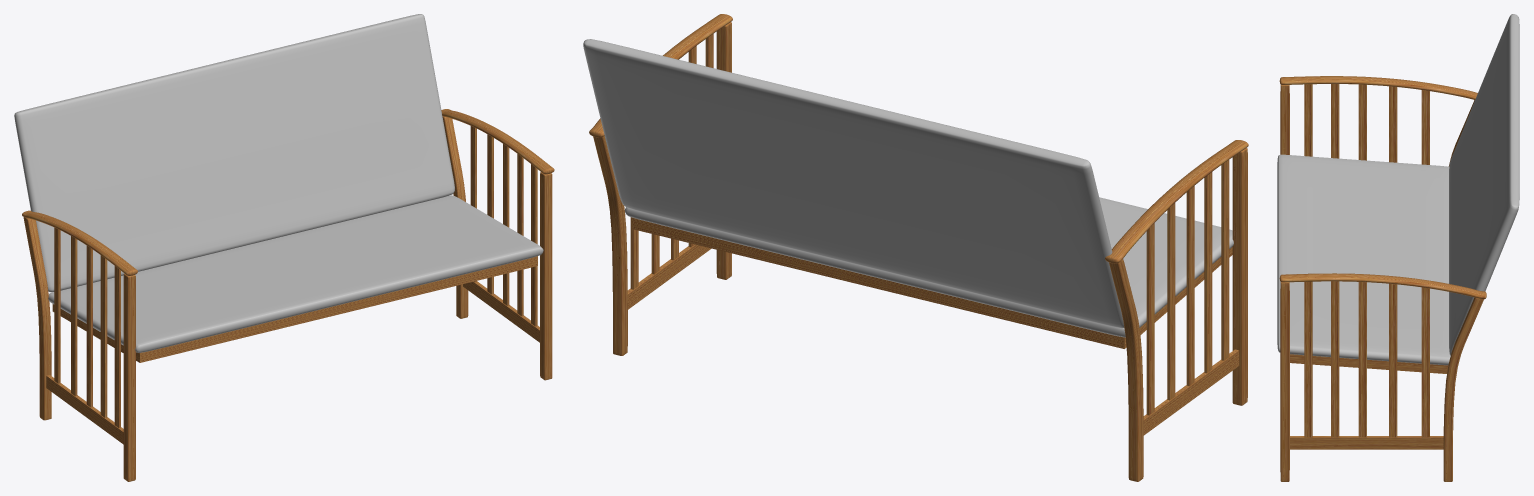
The model's file is bigpatiochair.fbx.
3 renders of one model, left to right at view 1: azimuth 30°, elevation 25°; view 2: azimuth 150°, elevation 25°; view 3: azimuth 270°, elevation 25°, orthographic. The views are drawn at different scales.
Visible parts, largest first — view 1: pCube4, pCube1, pCube3 (×2), pCube2, pCube5 (×2), pCube6 (×2), pCube7 (×2), pCube9 (×2), pCube8 (×2), pCube10 (×2), pCube11 (×2), pCube12 (×2); view 2: pCube4, pCube1, pCube5 (×2), pCube2, pCube3 (×2), pCube6 (×2), pCube7 (×2), pCube8, pCube9, pCube10, pCube11, pCube12; view 3: pCube1, pCube4, pCube6 (×2), pCube3 (×2), pCube7, pCube10 (×2), pCube9 (×2), pCube11 (×2), pCube8 (×2), pCube12 (×2), pCube5, pCube2.
Part boxes in pixels (<box>): pCube4: <box>14,14,454,292</box>; pCube1: <box>48,195,543,352</box>; pCube3 (×2): <box>123,172,552,481</box>; pCube2: <box>52,256,537,362</box>; pCube5 (×2): <box>23,116,468,420</box>; pCube6 (×2): <box>22,109,554,275</box>; pCube7 (×2): <box>46,281,539,444</box>; pCube9 (×2): <box>100,154,523,417</box>; pCube8 (×2): <box>114,164,537,427</box>; pCube10 (×2): <box>86,144,509,407</box>; pCube11 (×2): <box>71,134,493,396</box>; pCube12 (×2): <box>54,126,476,383</box>; pCube4: <box>583,39,1124,328</box>; pCube1: <box>624,197,1233,337</box>; pCube5 (×2): <box>593,136,1143,481</box>; pCube2: <box>631,217,1232,348</box>; pCube3 (×2): <box>716,22,1247,405</box>; pCube6 (×2): <box>589,14,1248,263</box>; pCube7 (×2): <box>627,244,1239,435</box>; pCube8: <box>1221,160,1229,360</box>; pCube9: <box>1204,172,1212,373</box>; pCube10: <box>1186,186,1194,386</box>; pCube11: <box>1167,203,1175,400</box>; pCube12: <box>1146,223,1154,415</box>; pCube1: <box>1277,154,1450,365</box>; pCube4: <box>1449,14,1519,355</box>; pCube6 (×2): <box>1279,76,1486,299</box>; pCube3 (×2): <box>1280,85,1289,481</box>; pCube7: <box>1290,436,1443,449</box>; pCube10 (×2): <box>1358,84,1366,437</box>; pCube9 (×2): <box>1331,84,1339,437</box>; pCube11 (×2): <box>1389,86,1397,437</box>; pCube8 (×2): <box>1304,84,1312,437</box>; pCube12 (×2): <box>1421,90,1429,437</box>; pCube5: <box>1443,297,1483,481</box>; pCube2: <box>1290,354,1448,373</box>.
Size of the model in its own units: 6.76 by 4.23 by 3.41.
